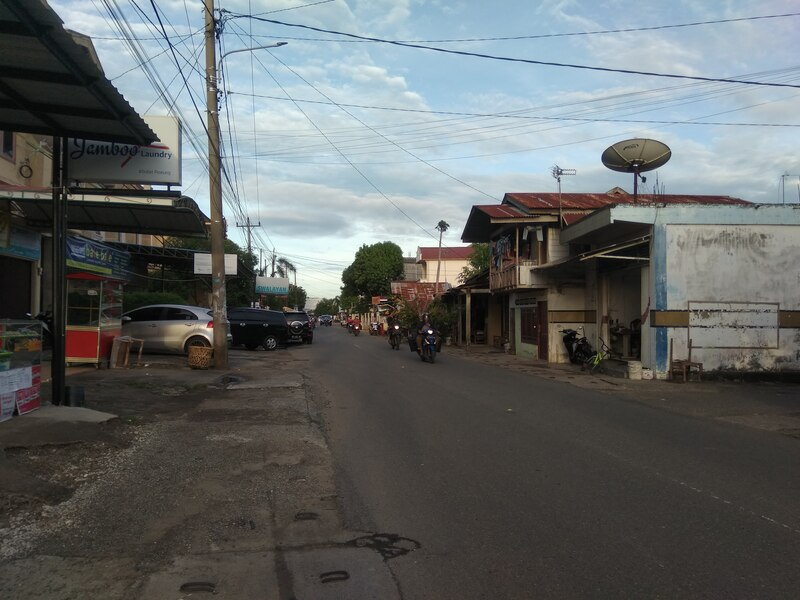car: (124, 305, 235, 362), (228, 305, 288, 353), (284, 307, 317, 346)
motorcycle: (556, 321, 600, 372), (415, 326, 447, 366), (386, 321, 404, 349)
